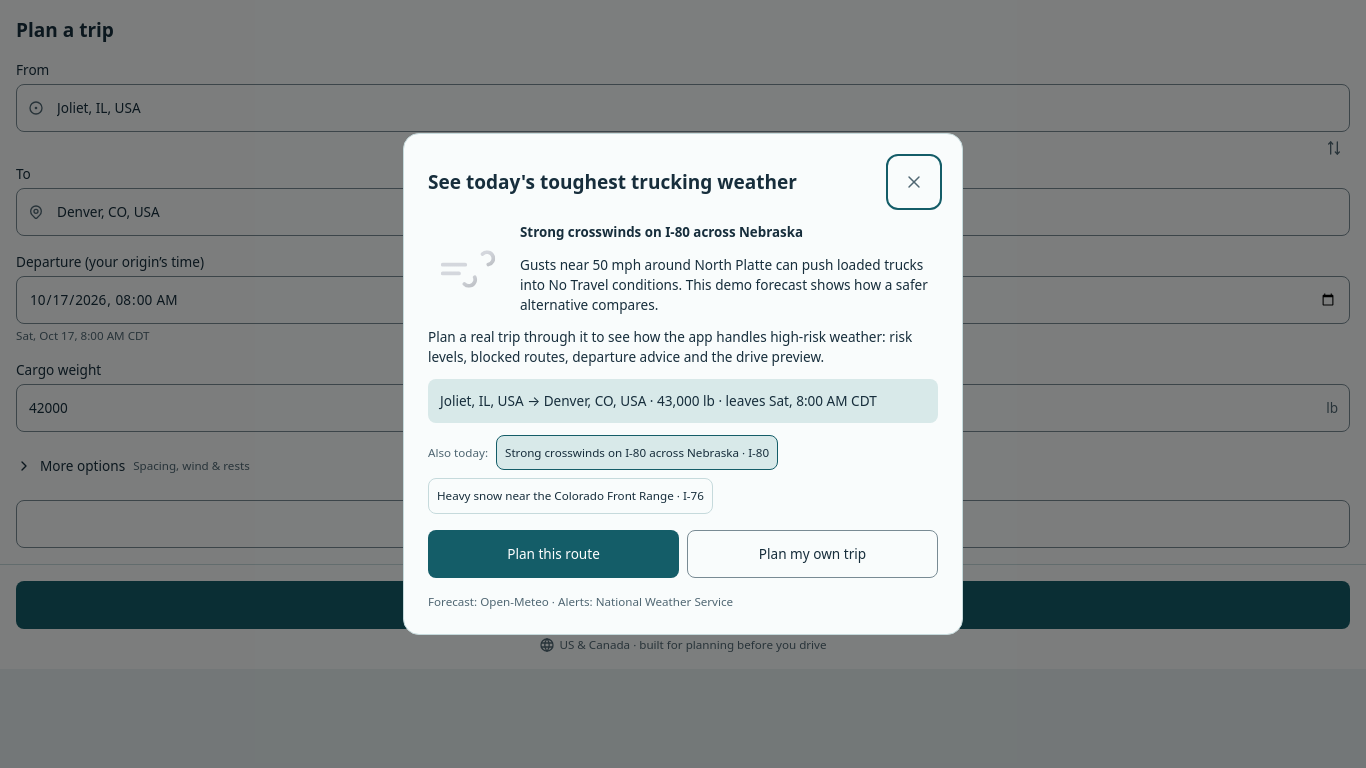
Test: daily weather showcase › Plan my own trip closes, focuses the origin, and leaves the form available
The width and height of the screenshot is (1366, 768).
Click the button "Plan my own trip".
click(812, 554)  # box [687,530,938,578]
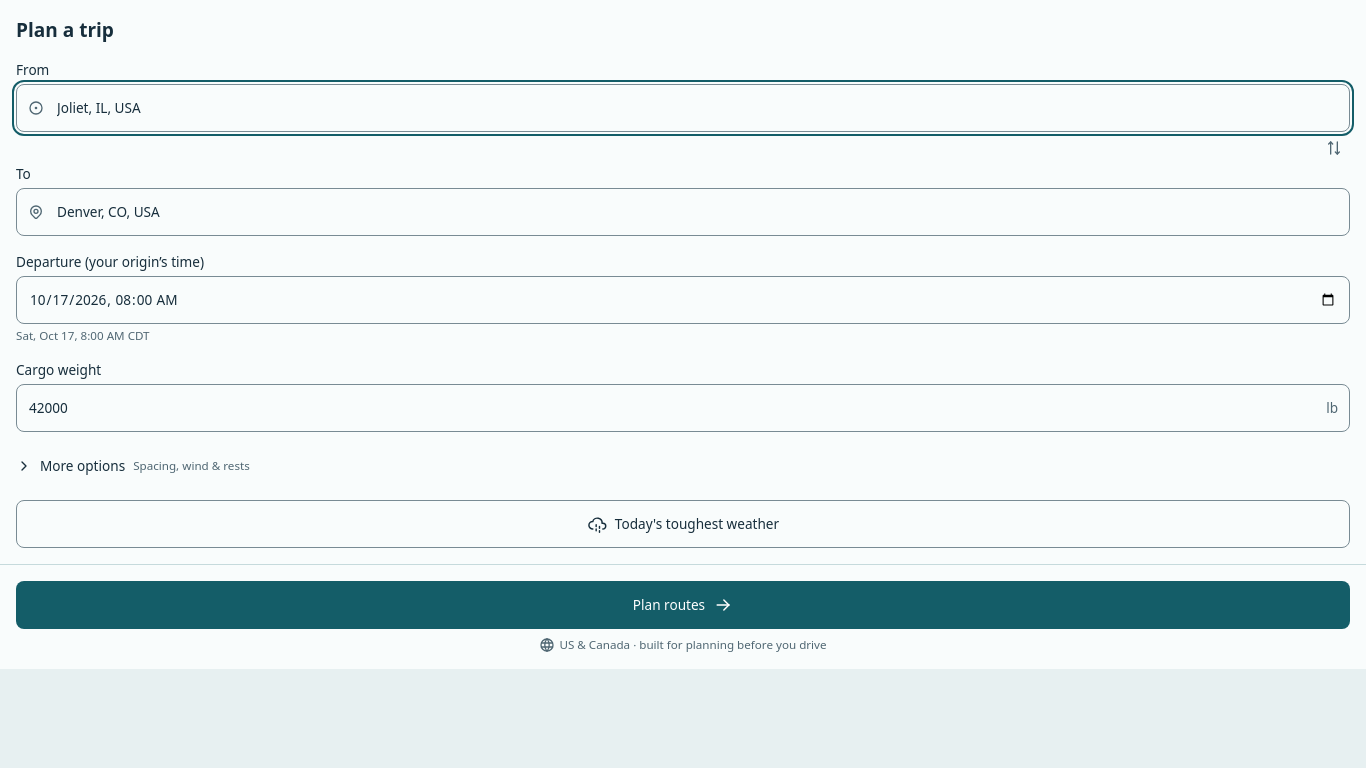
Check: the dialog is gone
